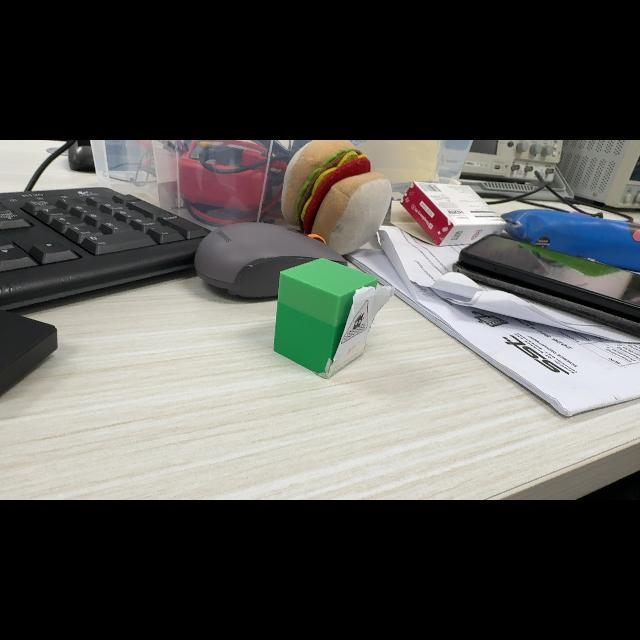Tsunami: (341, 300, 368, 344)
